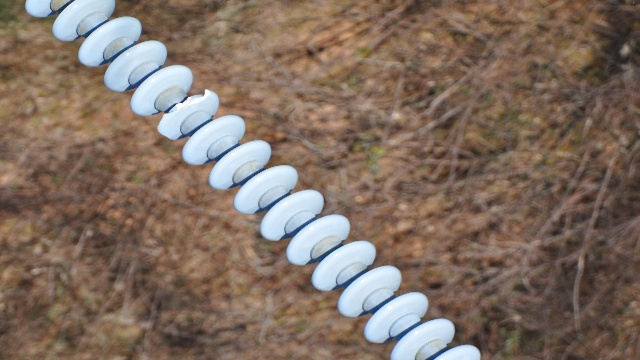broken_local: (154, 86, 213, 141)
insulator_unspecified: (26, 0, 484, 358)
